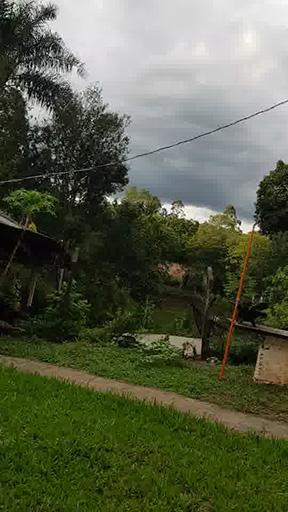Vara_Manobra: (220, 227, 254, 377)
